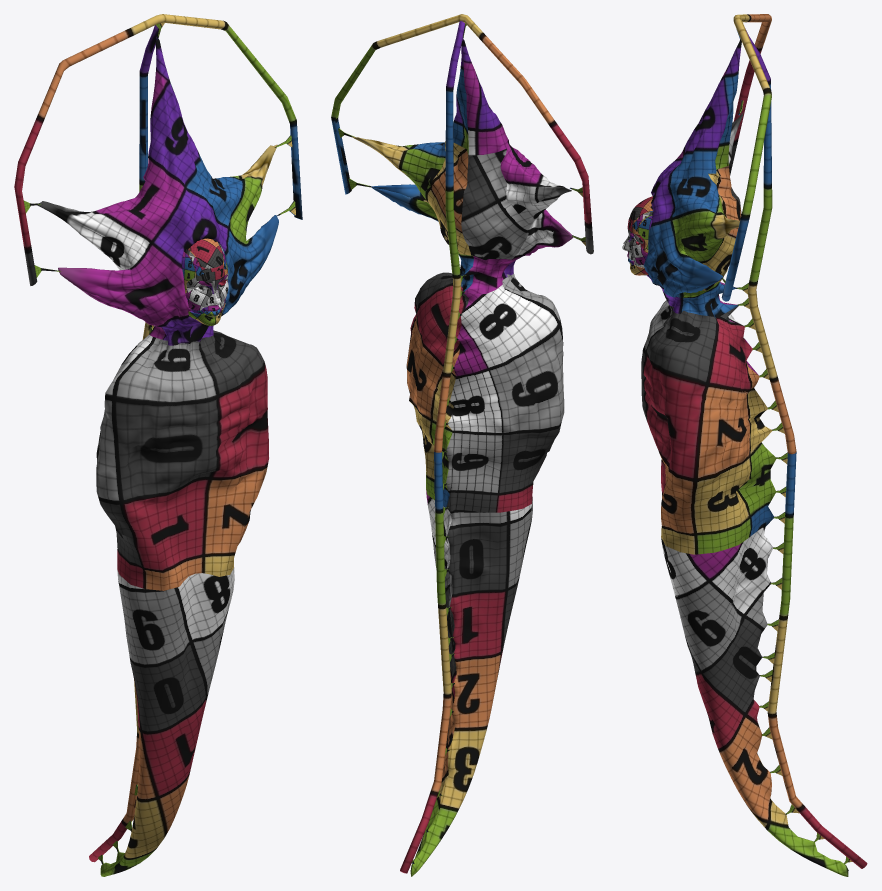
3 renders of one model, left to right at view 1: azimuth 30°, elevation 25°; view 2: azimuth 150°, elevation 25°; view 3: azimuth 270°, elevation 25°, orthographic. The views are drawn at different scales.
Visible parts, largest first — view 1: PolySphere, mask; view 2: PolySphere; view 3: PolySphere, mask.
Boxes of the visible parts, bbox=[...] form: PolySphere: bbox=[14, 14, 302, 876]; mask: bbox=[182, 238, 228, 325]; PolySphere: bbox=[331, 14, 593, 876]; PolySphere: bbox=[636, 14, 867, 876]; mask: bbox=[622, 196, 653, 275].
Bounding box in the file's own units: 75.29 × 231 × 59.65.
